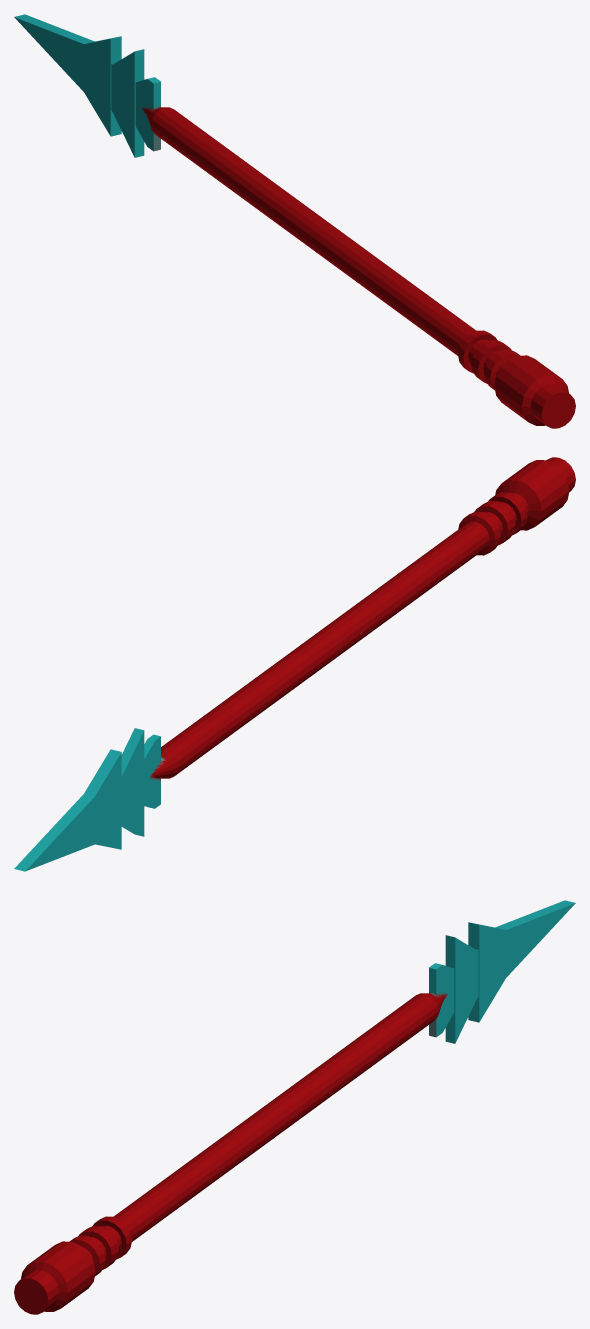
The model's file is redpawnspear.0.5.6.obj.
3 views of the same model, one above another, from view 1: azimuth 30°, elevation 25°; view 2: azimuth 150°, elevation 25°; view 3: azimuth 330°, elevation 25° (orthographic).
Parts seen in each view (by area): view 1: spear_Cylinder.002; view 2: spear_Cylinder.002; view 3: spear_Cylinder.002.
Part boxes in pixels (<box>): spear_Cylinder.002: <box>14,14,575,428</box>; spear_Cylinder.002: <box>14,457,575,871</box>; spear_Cylinder.002: <box>14,900,575,1314</box>.
Size of the model in its own units: 0.0979 by 0.2091 by 1.92.
